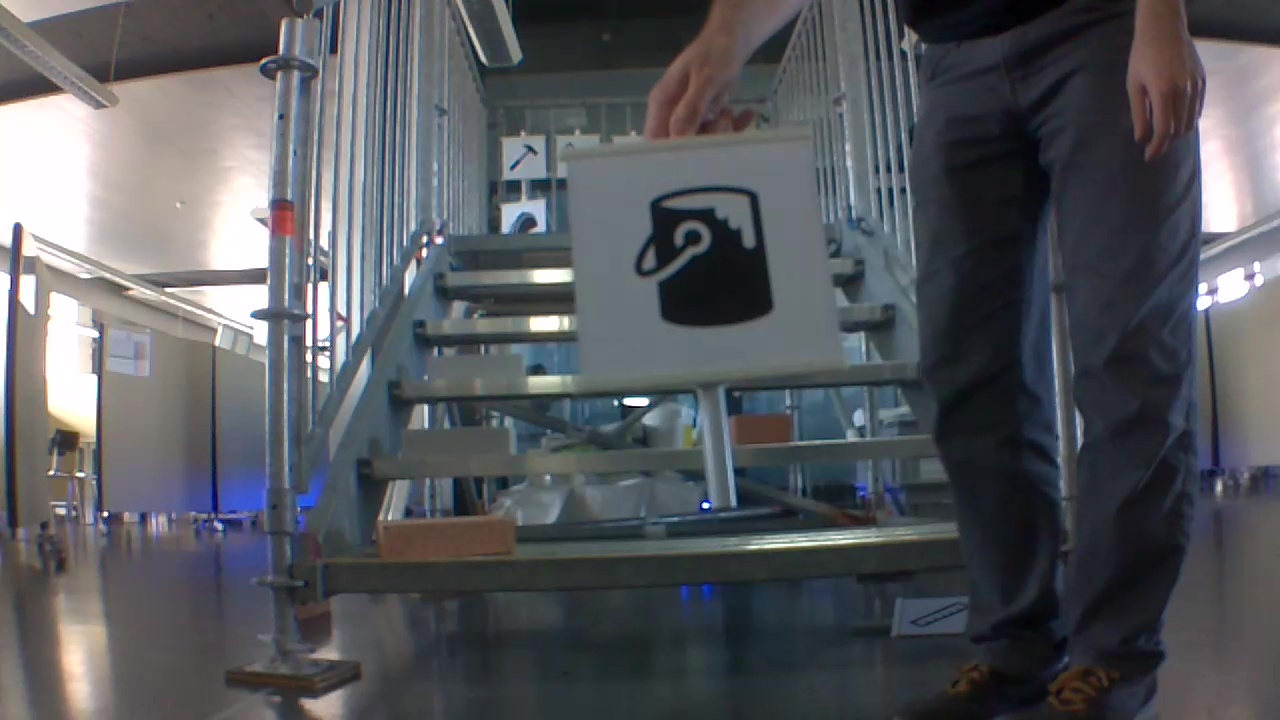brick: (381, 516, 513, 557), (402, 428, 516, 460), (427, 353, 525, 377), (732, 412, 792, 443)
bucket: (620, 177, 782, 334)
hammer: (505, 138, 538, 176)
taco: (505, 206, 542, 234)
